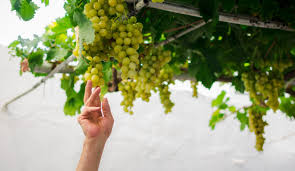grapes: (79, 4, 175, 120)
